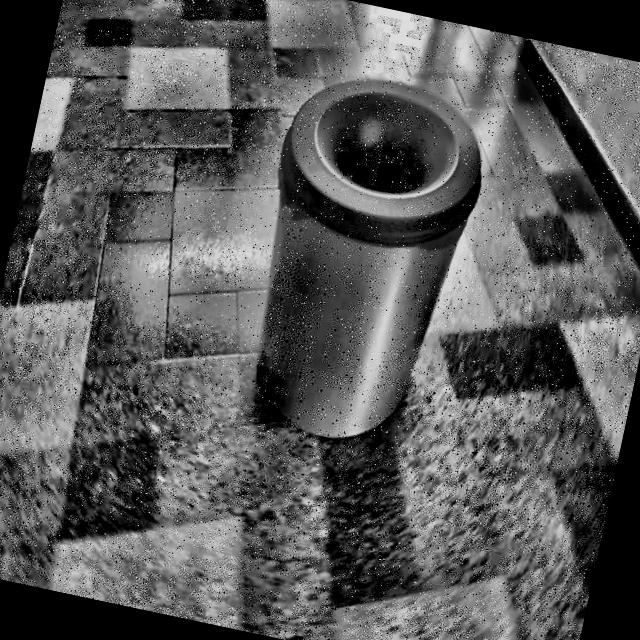Dustbin: (215, 42, 520, 474)
